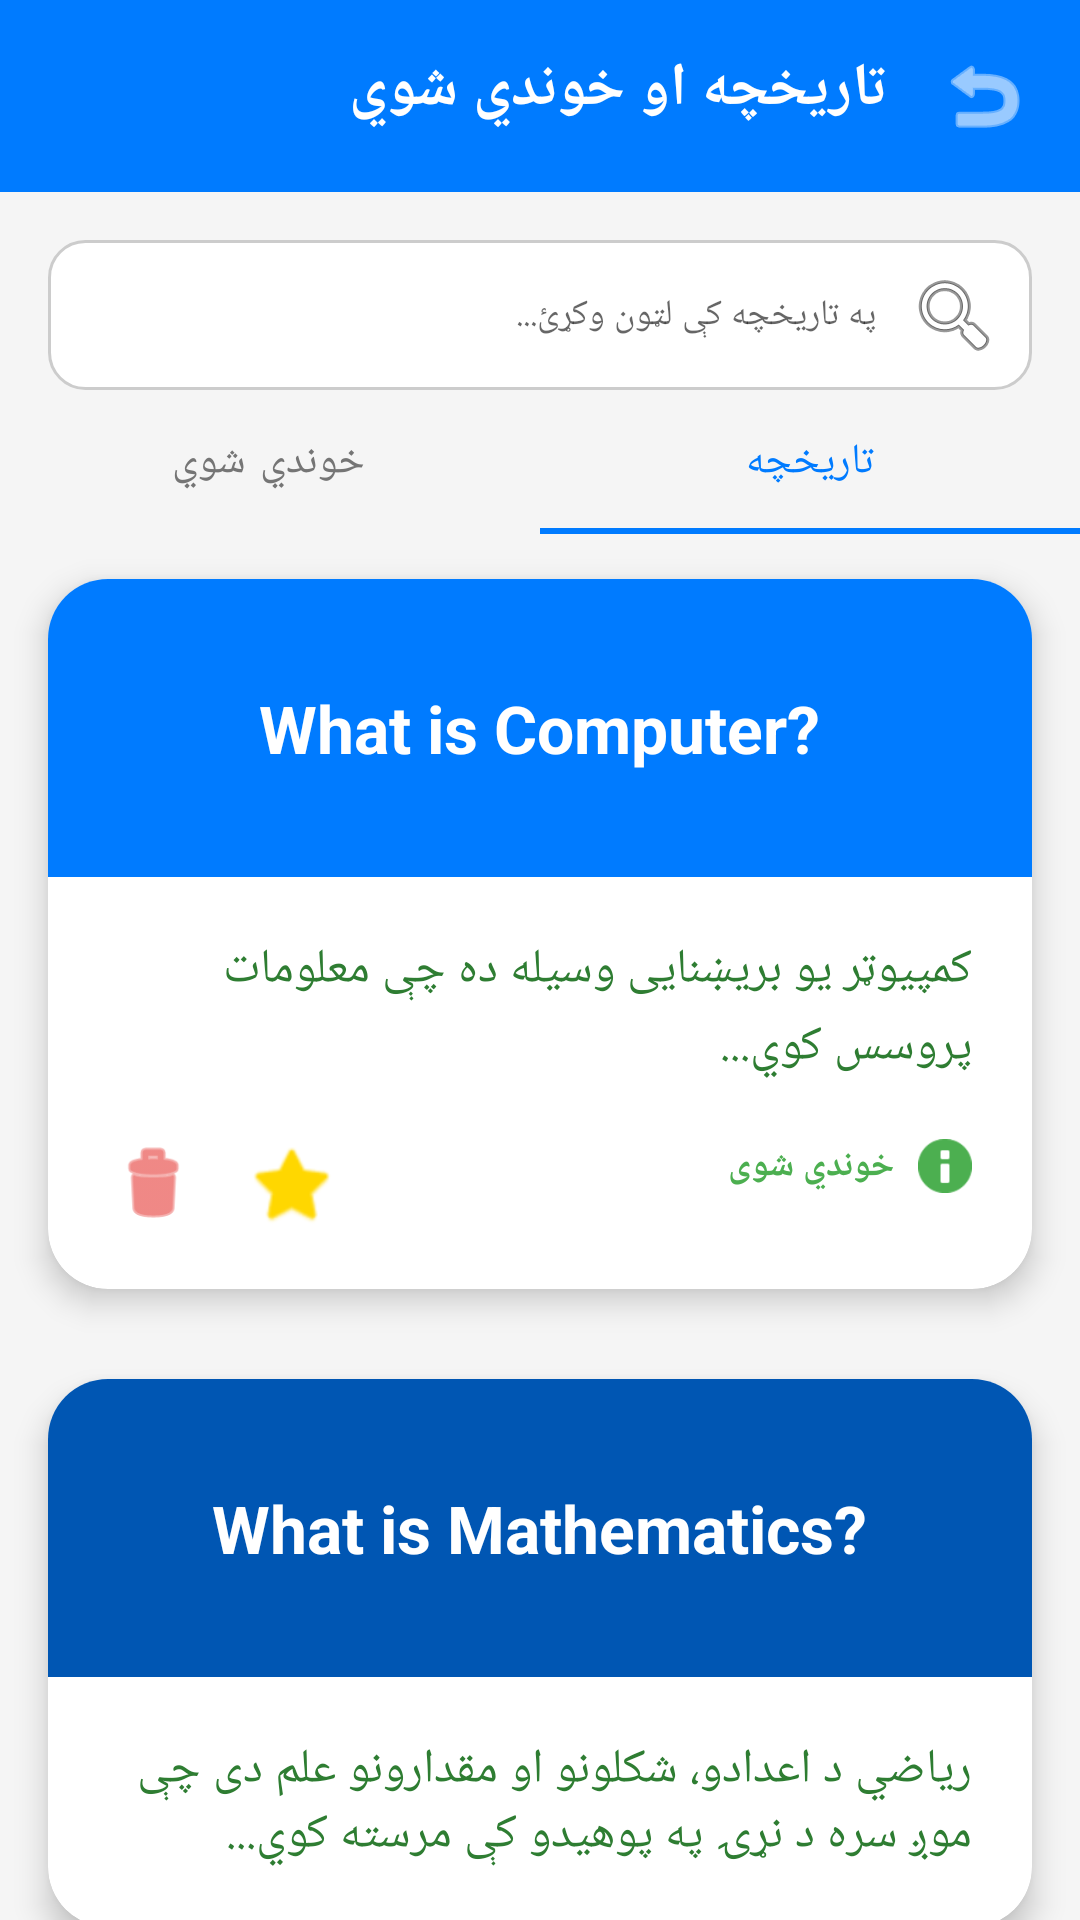

Named icons in this screenshot (1080px×1920px) and their centers, point (x, y):
delete: point (153, 1182)
info: point (945, 1166)
revert: point (985, 96)
star on: point (291, 1184)
